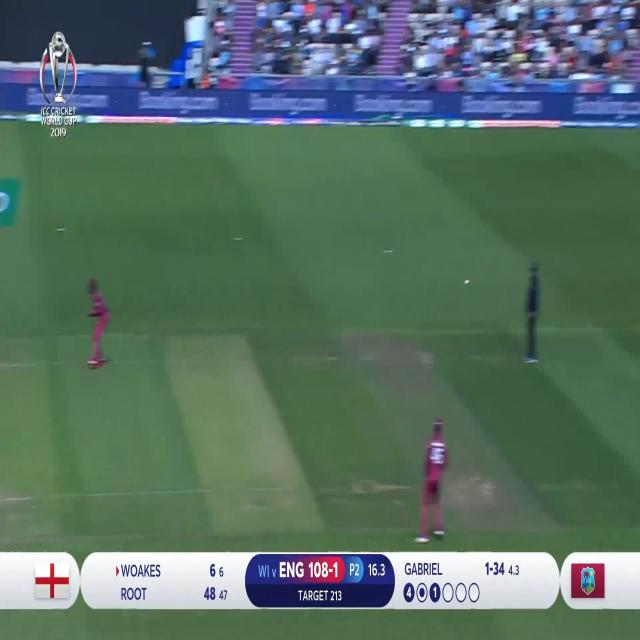ball: (460, 274, 476, 292)
